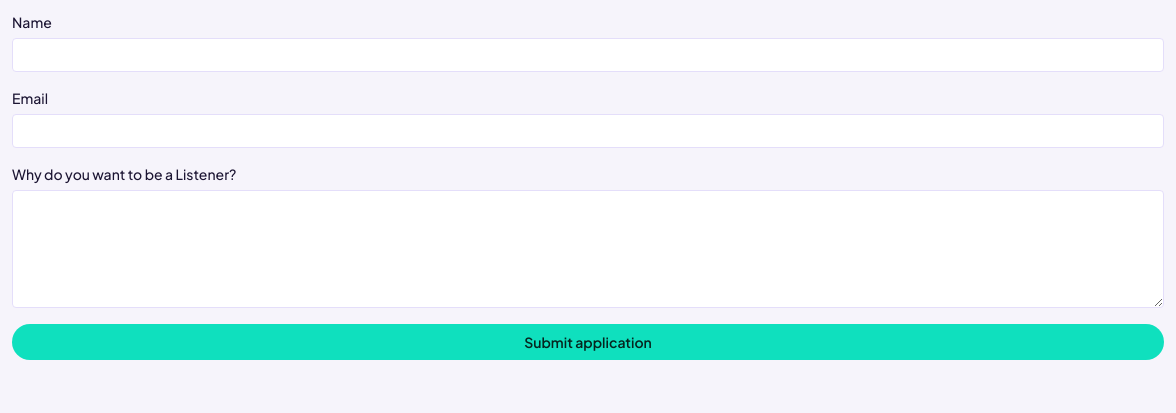
Test: ApplyForm › shows an error and stays on the form when the request fails
In the field labelled "Name": (588, 55) [12,38,1164,72], type "Robin"
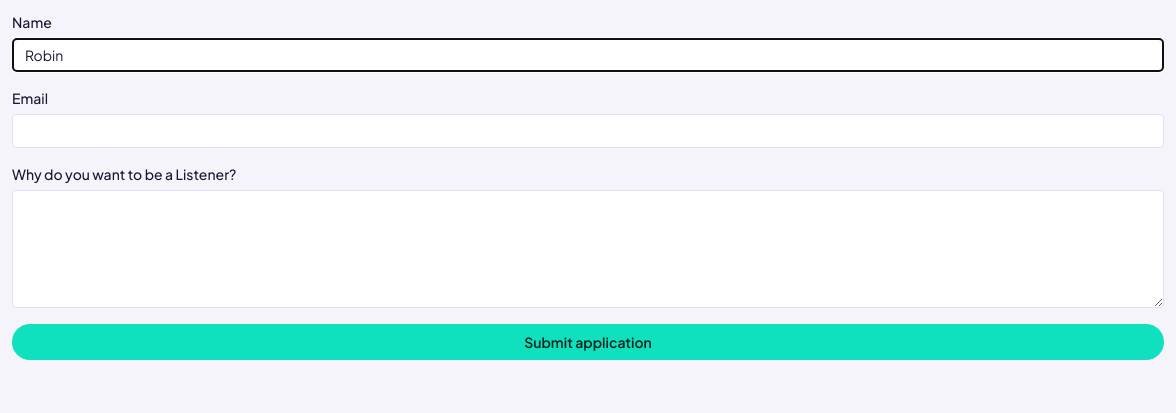
In the field labelled "Email": (588, 131) [12,114,1164,148], type "robin@example.com"
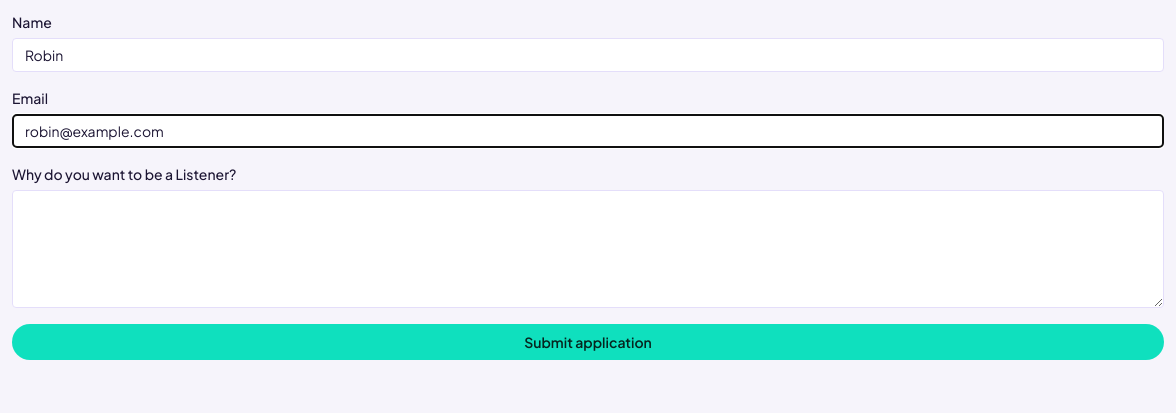
In the text box labelled "Why do you want to be a Listener?": (588, 249) [12,190,1164,308], type "I want to help people talk things through."
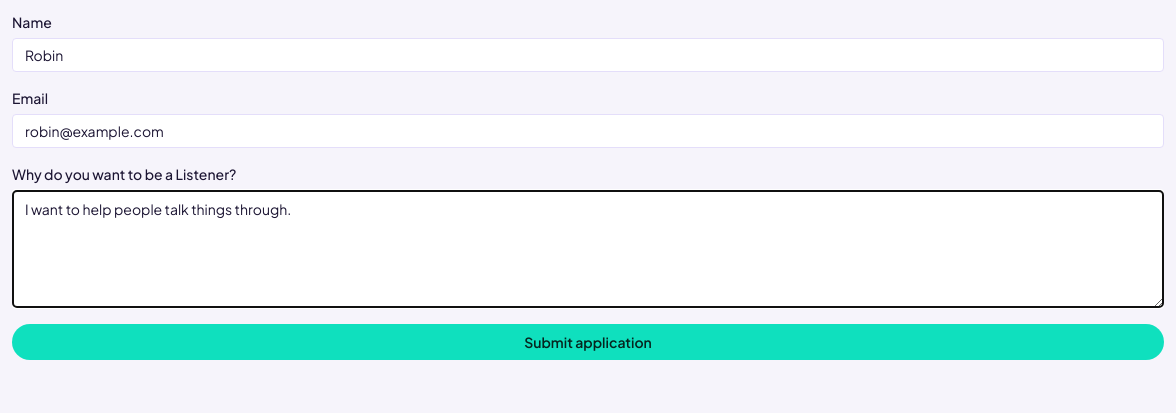
Click the button "Submit application": (588, 342) [12,324,1164,360]
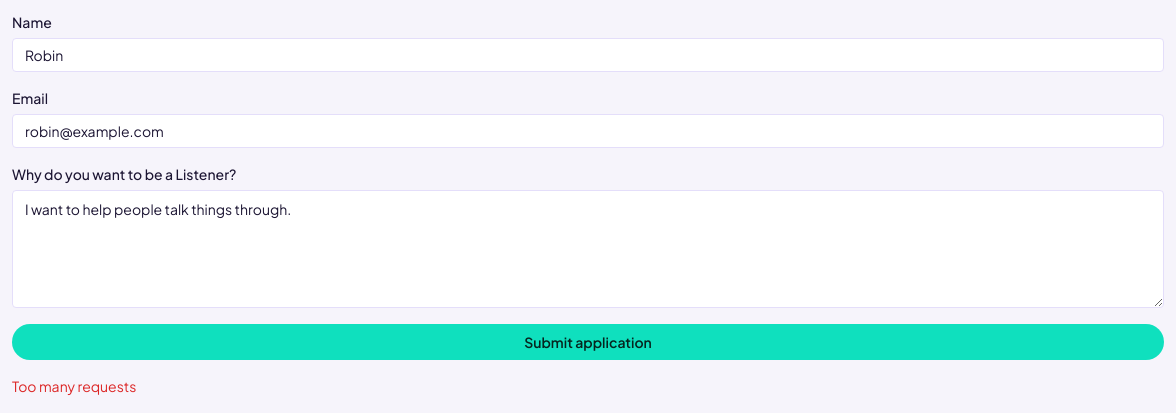
Expected: the text "Too many requests" is shown, [12,377,136,395]
